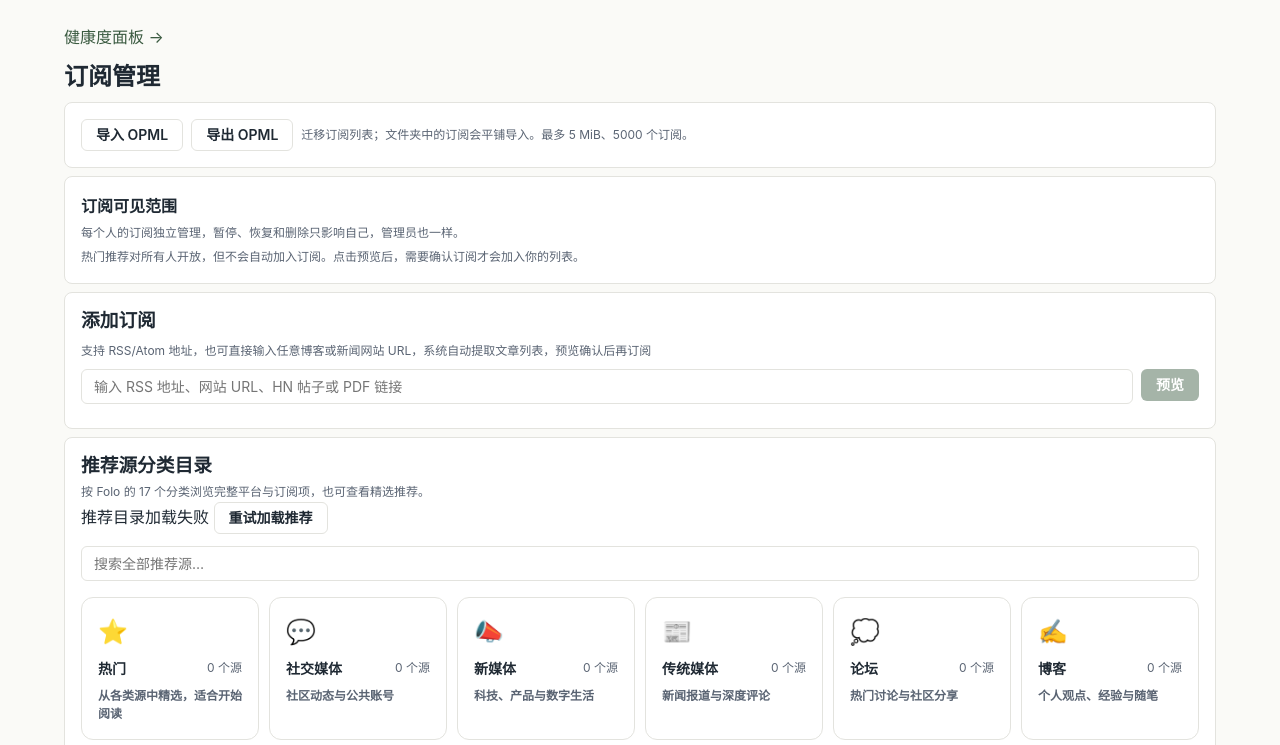
Test: public catalog failure has retry and never a hardcoded fallback
Check: the text "推荐目录加载失败" is shown, box [81, 507, 214, 527]
Click the button "重试加载推荐" at [270, 518], box [214, 502, 328, 534]
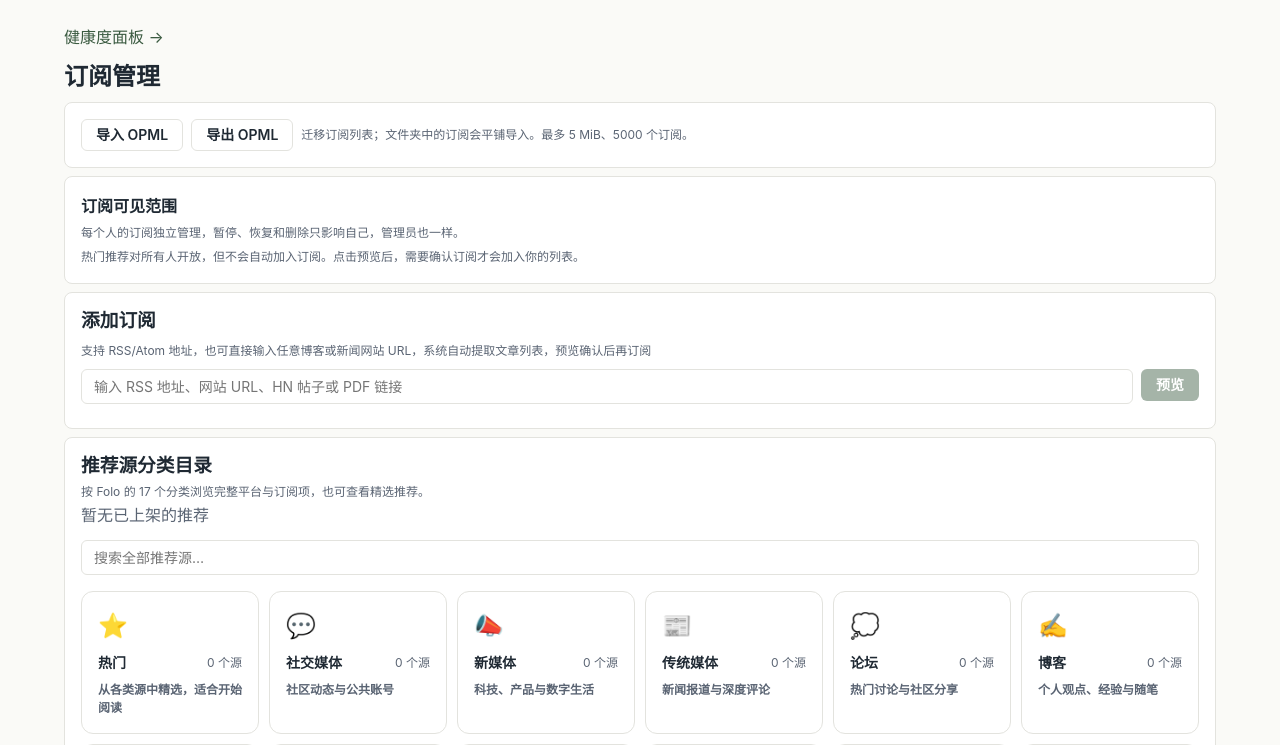
Check: the text "暂无已上架的推荐" is shown, box [81, 505, 209, 525]
